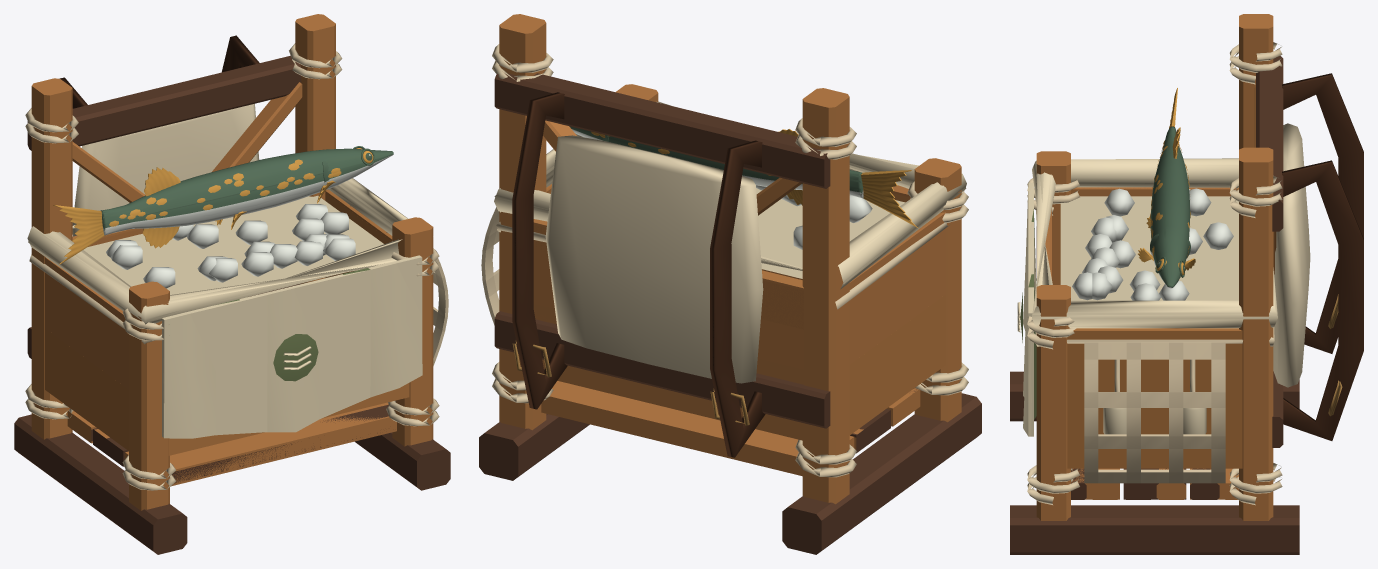
Rendered from prop_trade_pack_pike_a.glb.
The picture shows the model from 3 angles, left to right: view 1: azimuth 30°, elevation 25°; view 2: azimuth 150°, elevation 25°; view 3: azimuth 270°, elevation 25°; orthographic projection. The views are drawn at different scales.
Visible parts, largest first — view 1: prop_trade_pack_pike_a_carrier_1, prop_trade_pack_pike_a_carrier_0, prop_trade_pack_pike_a_catch_0, prop_trade_pack_pike_a_catch_1; view 2: prop_trade_pack_pike_a_carrier_0, prop_trade_pack_pike_a_carrier_1, prop_trade_pack_pike_a_catch_0; view 3: prop_trade_pack_pike_a_carrier_0, prop_trade_pack_pike_a_carrier_1, prop_trade_pack_pike_a_catch_0, prop_trade_pack_pike_a_catch_1.
Part boxes in pixels (<box>): prop_trade_pack_pike_a_carrier_1: <box>14,15,447,552</box>; prop_trade_pack_pike_a_carrier_0: <box>16,14,450,554</box>; prop_trade_pack_pike_a_catch_0: <box>53,146,393,264</box>; prop_trade_pack_pike_a_catch_1: <box>102,150,393,234</box>; prop_trade_pack_pike_a_carrier_0: <box>479,14,979,554</box>; prop_trade_pack_pike_a_carrier_1: <box>479,14,981,552</box>; prop_trade_pack_pike_a_catch_0: <box>569,126,918,228</box>; prop_trade_pack_pike_a_carrier_0: <box>1010,14,1363,552</box>; prop_trade_pack_pike_a_carrier_1: <box>1010,14,1363,554</box>; prop_trade_pack_pike_a_catch_0: <box>1138,88,1195,288</box>; prop_trade_pack_pike_a_catch_1: <box>1154,127,1189,288</box>.
Bounding box in the file's own units: 0.9306 × 0.96 × 0.7816.
